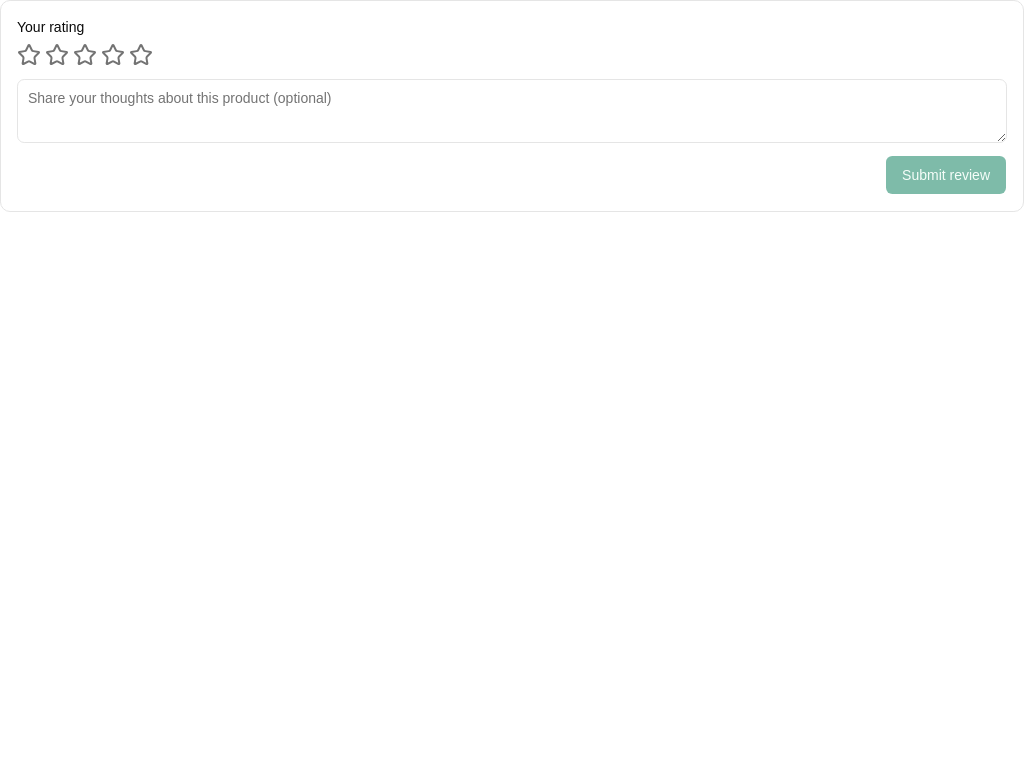
Test case: ReviewForm › submits POST /api/reviews with { productId, rating, comment } and an auth header, then toasts success
The width and height of the screenshot is (1024, 768).
Click the radio button named "4 stars".
click(113, 55)  # box [101,43,125,67]
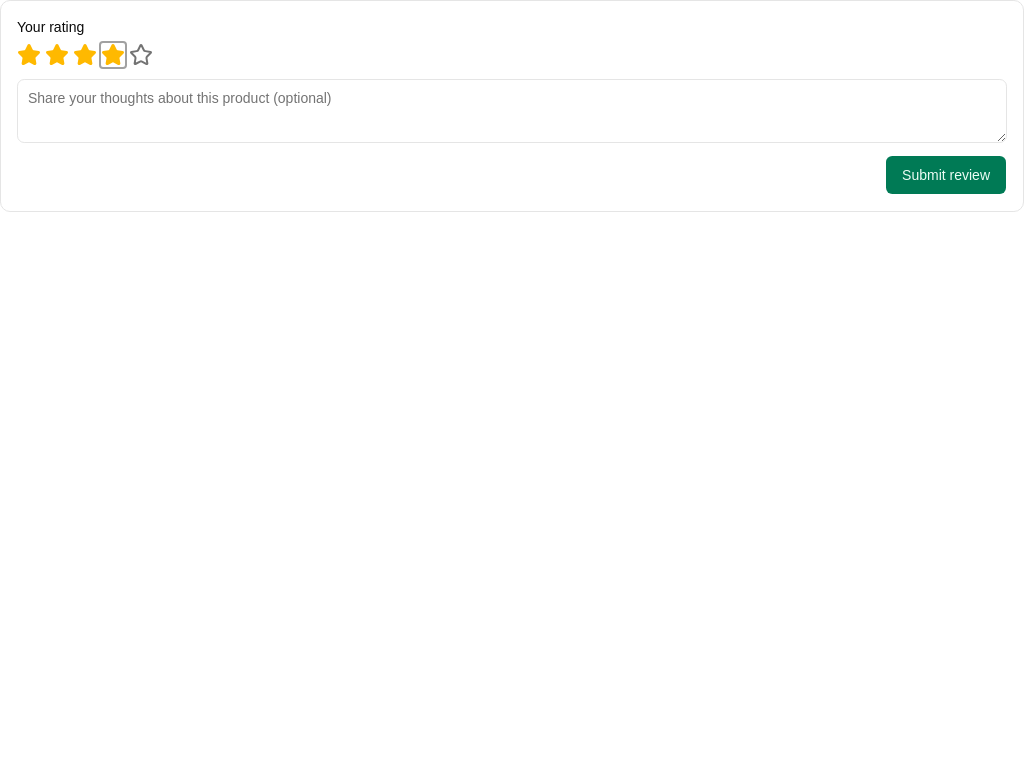
Type "Great fit" into the text box with placeholder "Share your thoughts about this product (optional)".
click(512, 111); type("Great fit")  # box [17,79,1007,143]
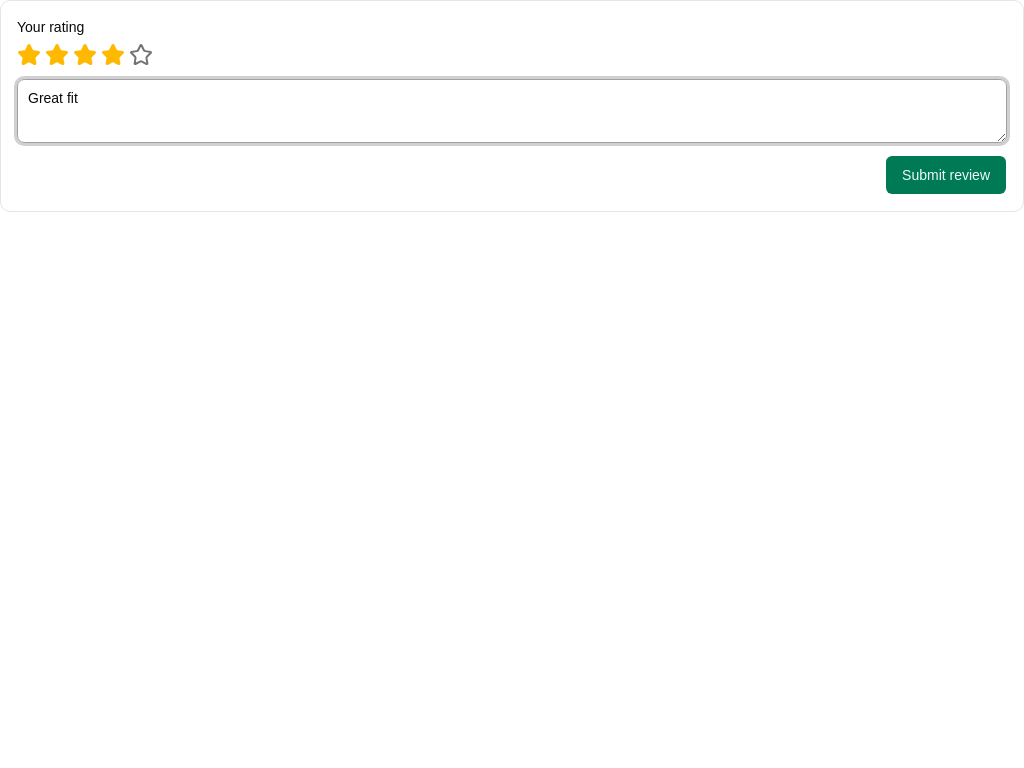
Click the button "Submit review".
click(946, 175)  # box [885,155,1007,195]
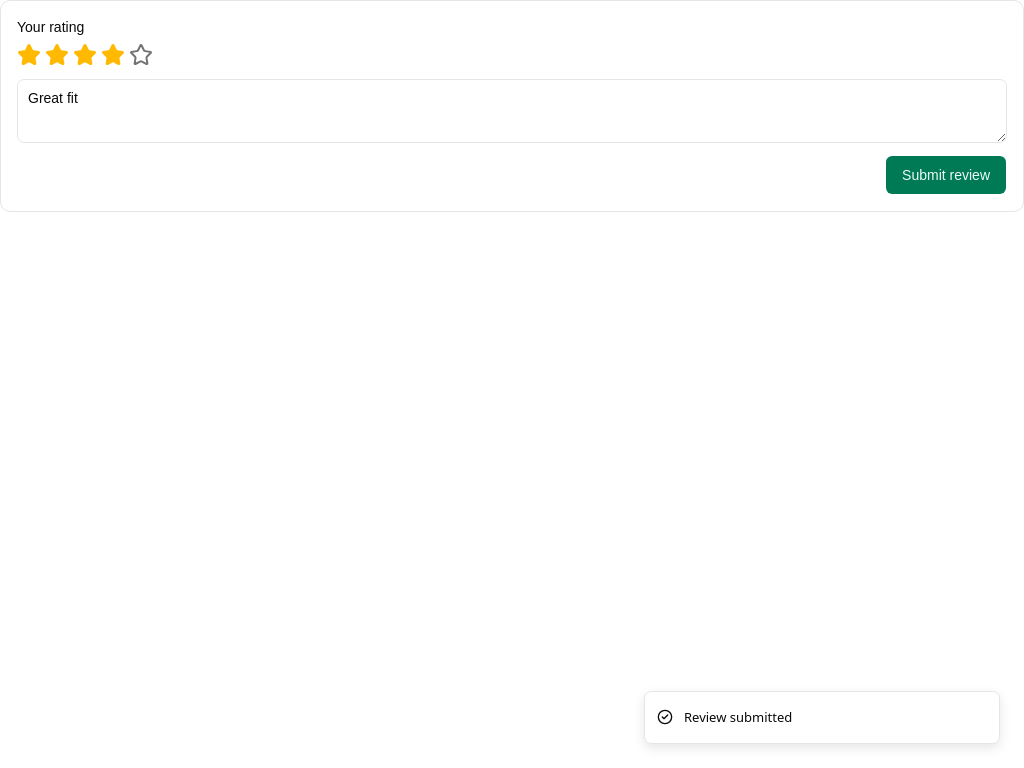
Expected: the text "Review submitted" is shown, [684,708,792,727]
